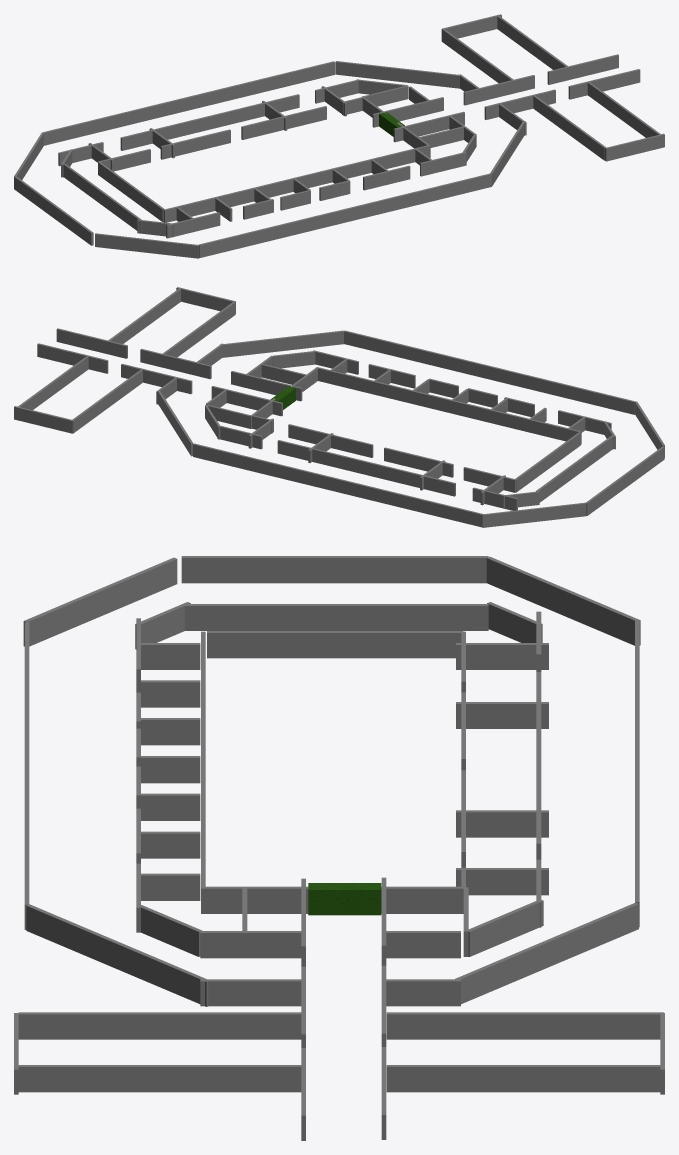
Rendered from Basementgraybox.fbx.
The picture shows the model from 3 angles, top to bottom: view 1: azimuth 30°, elevation 25°; view 2: azimuth 150°, elevation 25°; view 3: azimuth 270°, elevation 25°; orthographic projection. The views are drawn at different scales.
Visible parts, largest first — view 1: Cube__102_, Cube__103_, Cube__80_, Cube__73_, Cube__107_, Cube__105_, Cube__104_, Cube__81_, Cube__75_, Cube__111_, Cube__85_, Cube__120_ (+27 smaller); view 2: Cube__102_, Cube__103_, Cube__80_, Cube__73_, Cube__108_, Cube__106_, Cube__104_, Cube__75_, Cube__81_, Cube__112_, Cube__119_, Cube__84_ (+26 smaller); view 3: Cube__104_, Cube__75_, Cube__111_, Cube__115_, Cube__112_, Cube__116_, Cube__78_, Cube__108_, Cube__107_, Cube__105_, Cube__106_, Cube__83_ (+25 smaller).
Boxes of the visible parts, x1,y1,x2,y2 form: Cube__102_: (198, 173, 491, 258); Cube__103_: (43, 61, 334, 145); Cube__80_: (163, 145, 430, 222); Cube__73_: (120, 94, 299, 150); Cube__107_: (335, 61, 459, 88); Cube__105_: (95, 233, 198, 258); Cube__104_: (14, 176, 93, 245); Cube__81_: (241, 106, 326, 139); Cube__75_: (63, 164, 142, 233); Cube__111_: (533, 95, 605, 160); Cube__85_: (463, 75, 534, 105); Cube__120_: (547, 54, 618, 84); Cube__102_: (344, 330, 635, 414); Cube__103_: (193, 443, 483, 527); Cube__80_: (317, 367, 581, 444); Cube__73_: (277, 440, 455, 496); Cube__108_: (220, 330, 343, 357); Cube__106_: (482, 502, 586, 527); Cube__104_: (585, 446, 664, 515); Cube__75_: (536, 434, 613, 502); Cube__81_: (288, 424, 373, 457); Cube__112_: (72, 369, 142, 433); Cube__119_: (56, 328, 127, 358); Cube__84_: (140, 349, 211, 379); Cube__104_: (181, 556, 488, 583); Cube__75_: (181, 604, 488, 630); Cube__111_: (18, 1012, 302, 1039); Cube__115_: (18, 1065, 301, 1092); Cube__112_: (386, 1012, 663, 1039); Cube__116_: (386, 1065, 663, 1092); Cube__78_: (207, 631, 463, 658); Cube__108_: (26, 904, 208, 1006); Cube__107_: (455, 902, 638, 1004); Cube__105_: (23, 557, 177, 646); Cube__106_: (486, 556, 640, 645); Cube__83_: (200, 931, 301, 958).
Bounding box in the file's own units: 27710 × 582 × 13620.
2 materials, 1 textured.
